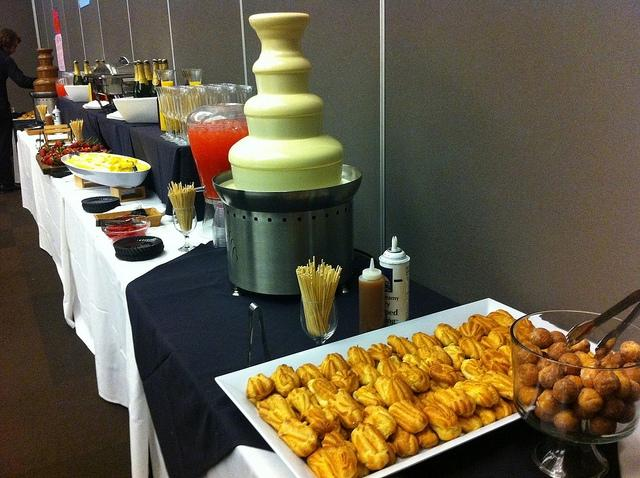strawberry: (53, 154, 64, 166), (69, 143, 81, 150), (38, 146, 46, 156), (41, 155, 50, 163), (62, 149, 70, 155), (56, 140, 64, 146), (98, 144, 104, 150), (84, 142, 90, 148), (77, 139, 85, 143), (46, 150, 52, 155), (53, 143, 57, 149), (68, 148, 74, 152), (74, 148, 78, 152)
